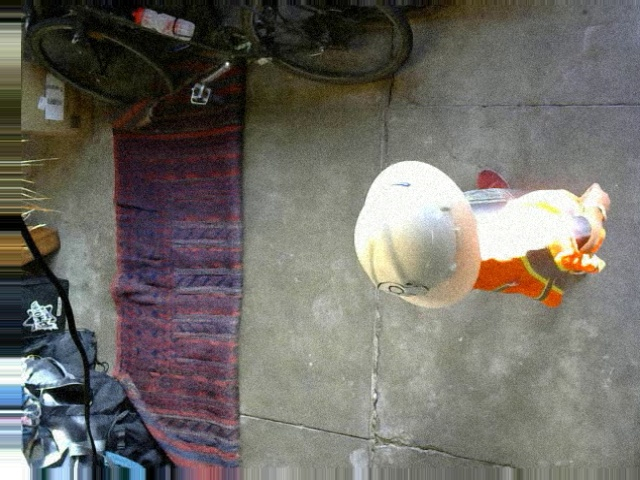eight: (374, 279, 429, 296)
